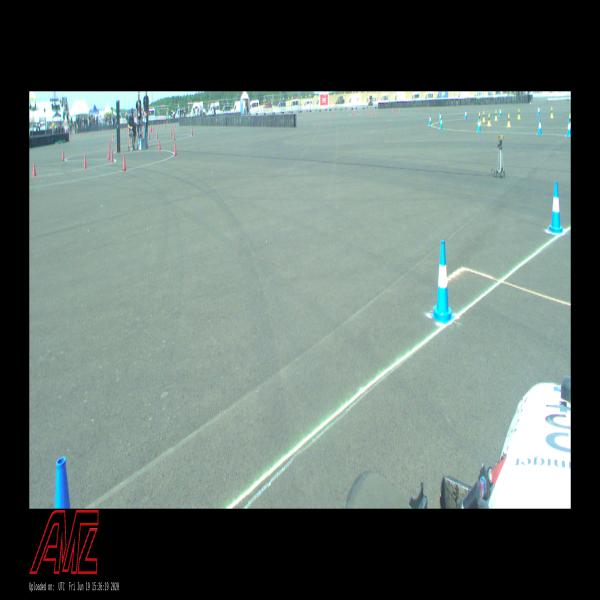blue_cone: (430, 240, 455, 324), (548, 182, 564, 232), (56, 457, 70, 508), (566, 119, 570, 137), (538, 118, 542, 134), (477, 116, 481, 132), (439, 117, 443, 128), (499, 108, 502, 118), (429, 115, 432, 125), (537, 106, 540, 113), (439, 112, 441, 121), (465, 110, 467, 118)
unknown_cone: (122, 155, 126, 171), (32, 161, 36, 176), (62, 150, 65, 162), (107, 148, 110, 159), (84, 155, 86, 168), (111, 150, 113, 163), (174, 143, 176, 155), (158, 139, 160, 150), (108, 140, 110, 148), (156, 132, 158, 139), (398, 108, 400, 114), (192, 128, 193, 136), (174, 132, 175, 140), (373, 110, 374, 116), (370, 110, 371, 115), (392, 108, 393, 112)
yellow_cone: (488, 113, 491, 126), (507, 114, 510, 126), (482, 111, 485, 122), (478, 113, 481, 124), (550, 108, 553, 118), (494, 110, 497, 120), (568, 114, 571, 123), (518, 109, 520, 119)
